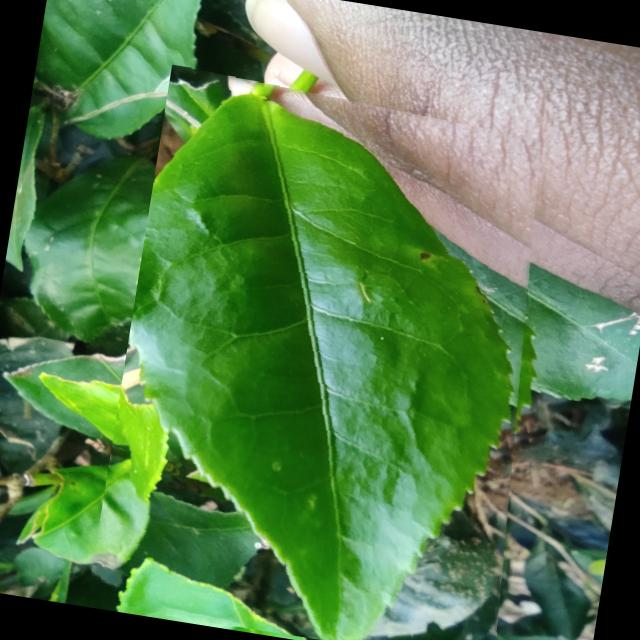Category C 4-7 days: (87, 61, 580, 640)
